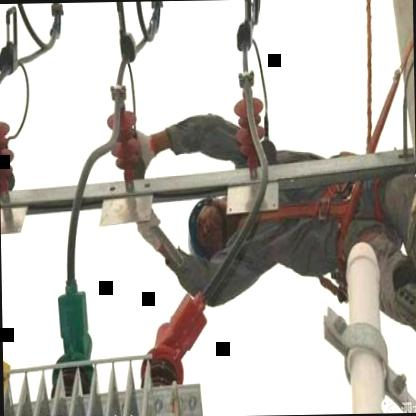helmet: (180, 192, 242, 260)
